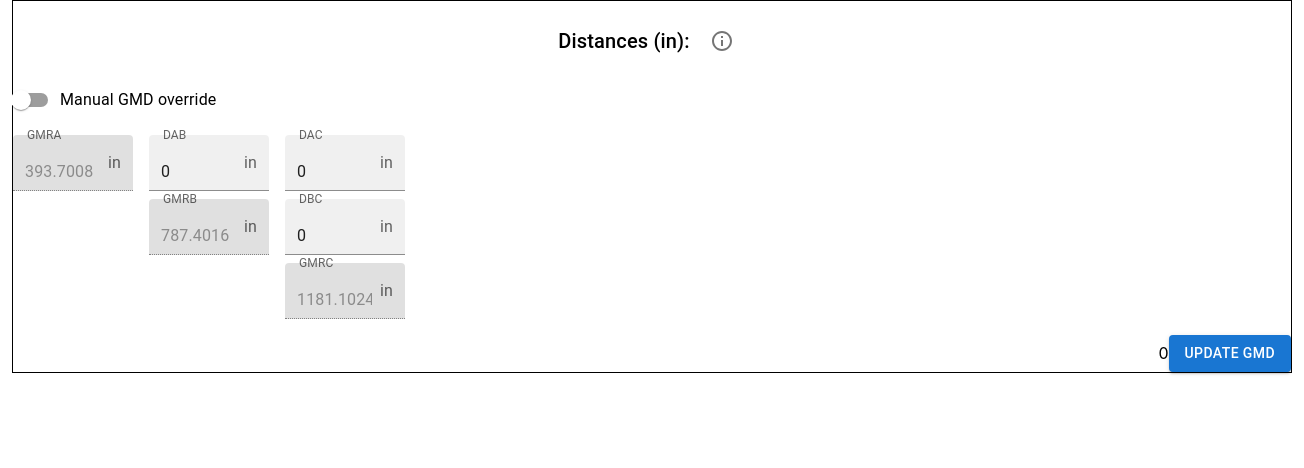
Test: Manual GMD override and handleManualGmdChange › shows correct unit in manual GMD input and label for in
The width and height of the screenshot is (1304, 468).
Click the switch labelled "Manual GMD override": x=114, y=100 x1=11 y1=90 x2=216 y2=110
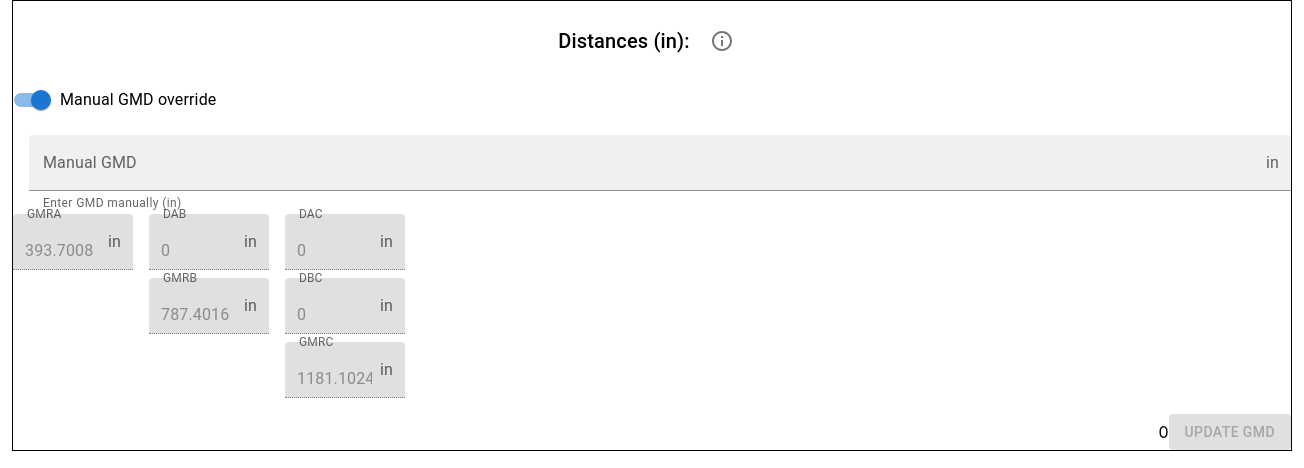
Expected: the 1st element showing "in" is shown, x1=29 y1=135 x2=1291 y2=191
Expected: the text "Enter GMD manually (in)" is shown, x1=43 y1=196 x2=182 y2=210
